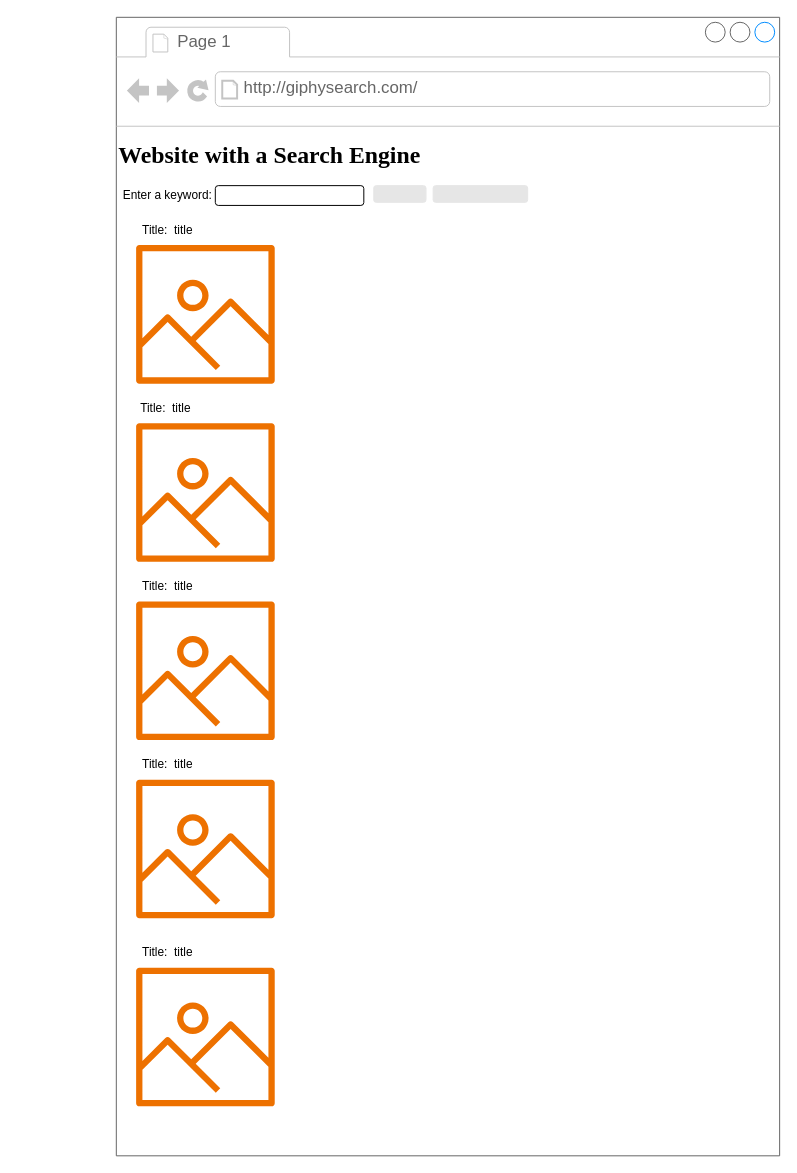
Some shapes in this 797 by 1173 pixel diagram are drawn without their labels. The shapes that lost their labels are listed below. From the top down, each one's centre as x and y in pixels, then its label:
At (x=399, y=193): "Search".
At (x=480, y=193): "New Search".
